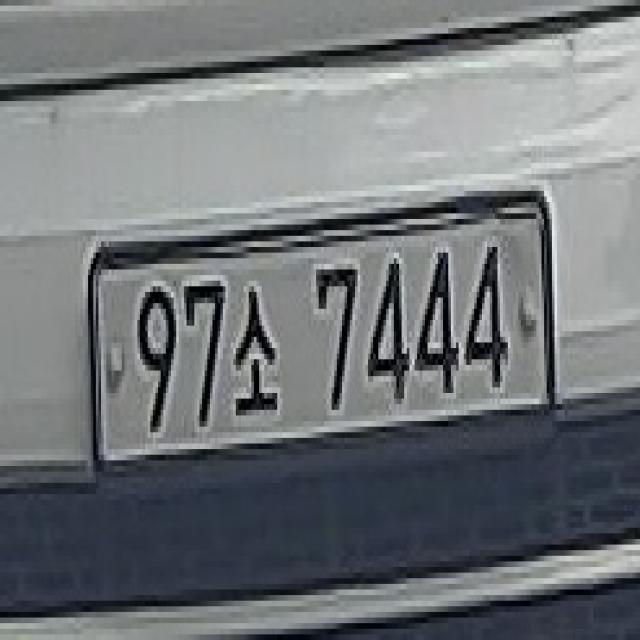4: (414, 241, 464, 404), (364, 251, 414, 412), (468, 236, 512, 395)
7: (178, 270, 228, 438), (310, 258, 360, 420)
9: (128, 277, 178, 443)
license_plate: (93, 198, 551, 467)
so: (230, 266, 286, 424)
